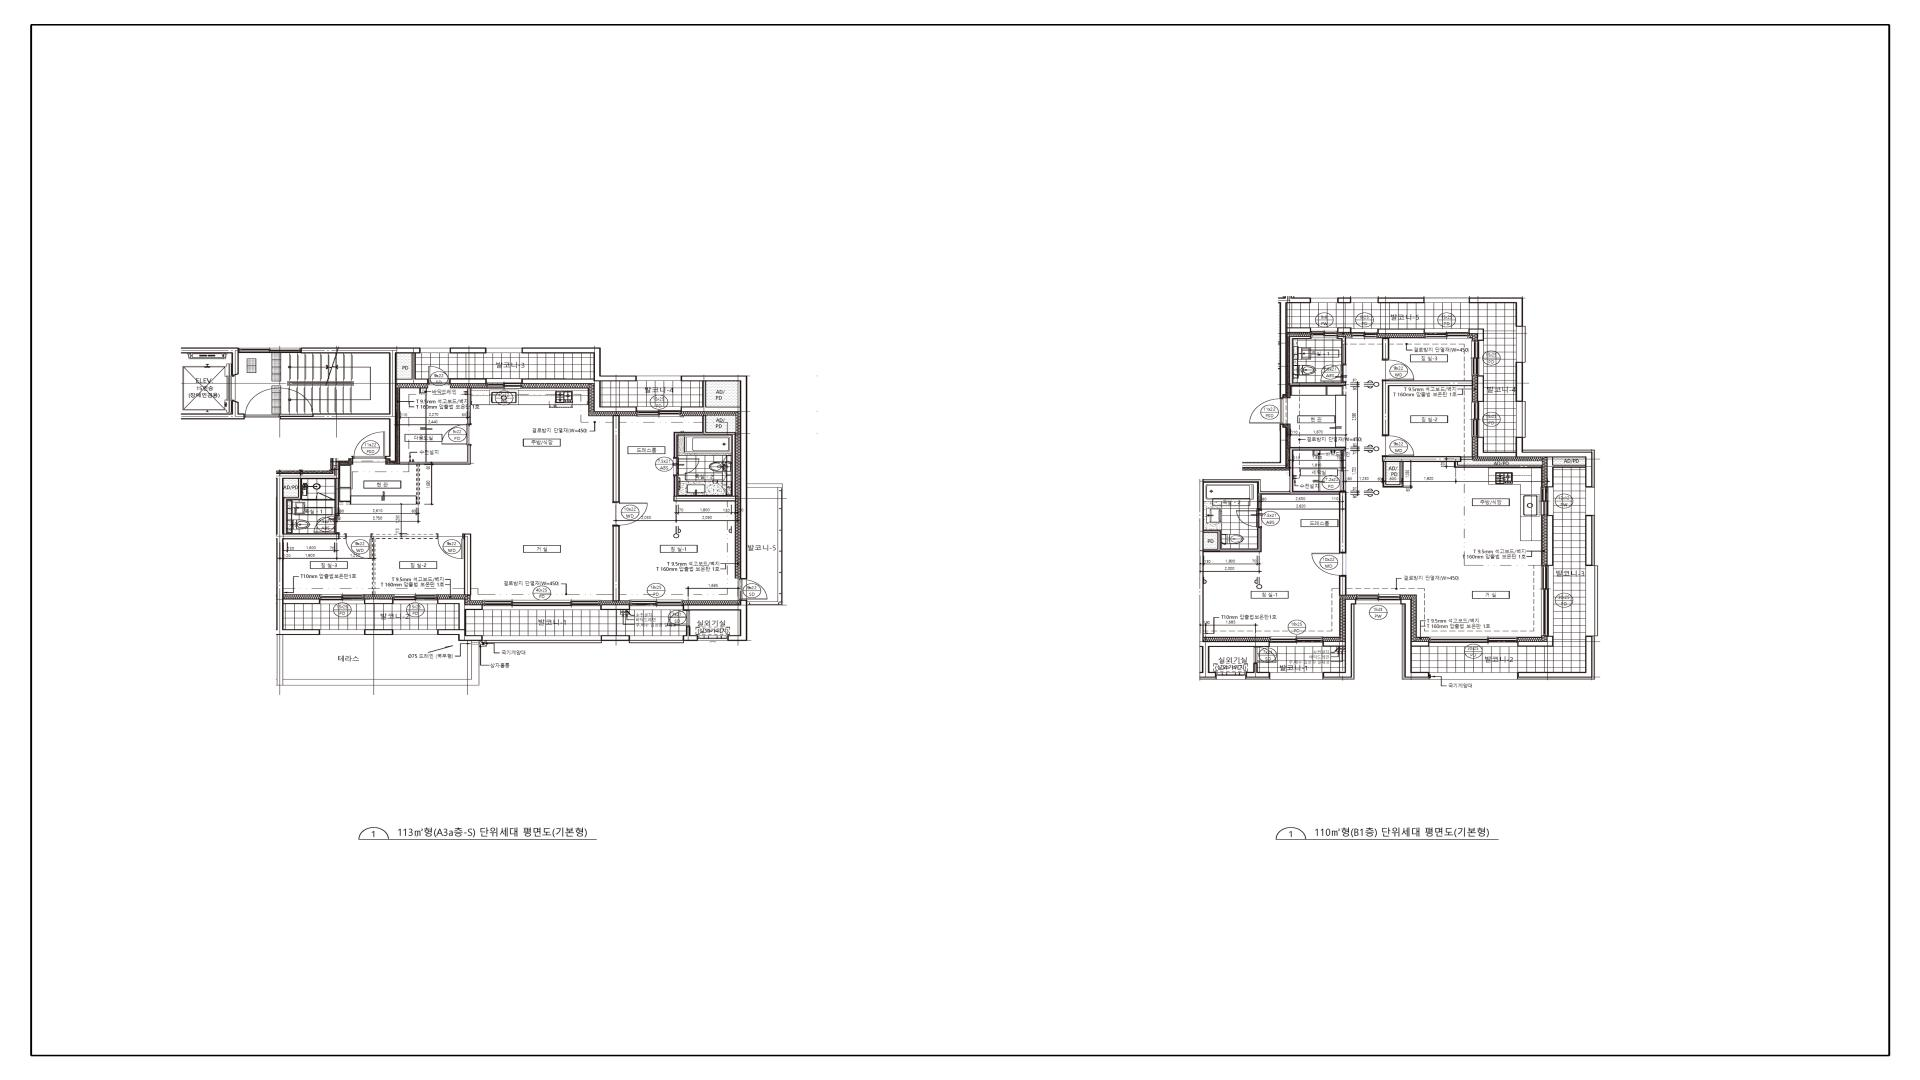door: (244, 388, 280, 419), (353, 431, 385, 459), (1249, 398, 1283, 423), (613, 502, 649, 526), (1312, 553, 1346, 576), (1382, 434, 1414, 456), (1382, 359, 1414, 381), (436, 534, 464, 559), (440, 423, 471, 446), (345, 534, 372, 559), (740, 579, 767, 600), (313, 516, 340, 534), (674, 458, 700, 476), (1236, 509, 1262, 527), (1320, 364, 1346, 382), (427, 365, 450, 385), (667, 611, 690, 626), (316, 492, 335, 501)
wall: (680, 376, 783, 641), (280, 347, 421, 462), (1204, 447, 1346, 553), (276, 456, 353, 636), (1200, 479, 1270, 678), (674, 415, 736, 501), (1382, 456, 1543, 488), (1382, 380, 1473, 435), (400, 444, 471, 505), (522, 378, 637, 413), (372, 534, 436, 595), (1515, 438, 1593, 487), (522, 348, 637, 381), (1518, 636, 1593, 678), (1279, 298, 1311, 398), (1290, 336, 1346, 386), (1323, 599, 1356, 678), (1400, 599, 1429, 678), (1242, 423, 1287, 468), (682, 381, 740, 413), (284, 479, 316, 534), (181, 348, 239, 376), (1469, 298, 1523, 327), (1204, 527, 1262, 553), (438, 599, 483, 629), (181, 400, 244, 419), (1547, 458, 1585, 487), (397, 353, 427, 384), (1477, 438, 1515, 458), (612, 526, 620, 601), (613, 415, 620, 502), (438, 629, 483, 641), (464, 534, 471, 596), (1585, 516, 1593, 566), (1518, 637, 1553, 647), (1386, 462, 1400, 485), (1246, 663, 1270, 678), (1547, 516, 1553, 566), (1515, 363, 1523, 402), (1337, 336, 1346, 364), (1378, 328, 1424, 334), (1378, 298, 1424, 303), (683, 626, 698, 641), (450, 348, 487, 353), (450, 378, 485, 384), (284, 599, 319, 604), (601, 604, 629, 611), (365, 629, 393, 636), (1469, 328, 1484, 340), (1382, 338, 1390, 359), (1477, 376, 1484, 401), (1338, 576, 1346, 596), (601, 636, 630, 641), (1323, 641, 1345, 647), (365, 599, 393, 604), (335, 479, 339, 516), (467, 388, 471, 423), (1287, 327, 1311, 332), (1412, 641, 1429, 647), (1337, 327, 1352, 332), (1337, 298, 1352, 303), (339, 534, 345, 539)
window: (483, 600, 601, 611), (483, 636, 601, 644), (1429, 637, 1518, 647), (1585, 566, 1598, 636), (1542, 566, 1553, 637), (1429, 673, 1518, 679), (629, 600, 683, 611), (1270, 637, 1324, 647), (637, 406, 682, 417), (1424, 328, 1469, 339), (1472, 401, 1484, 438), (319, 595, 365, 604), (1472, 340, 1484, 376), (1270, 673, 1323, 680), (630, 636, 683, 644), (1356, 595, 1400, 604), (393, 595, 438, 604), (239, 347, 301, 353), (485, 378, 522, 389), (1540, 487, 1553, 516), (1516, 402, 1526, 438), (1516, 327, 1526, 363), (1311, 327, 1337, 339), (1585, 487, 1596, 516), (393, 629, 438, 636), (320, 629, 365, 636), (1352, 328, 1378, 339), (1340, 451, 1346, 491), (1216, 673, 1246, 680), (1424, 298, 1469, 303), (637, 376, 680, 381), (487, 348, 522, 353), (698, 636, 728, 641), (421, 348, 450, 353), (1350, 298, 1378, 303), (1311, 298, 1337, 303)
